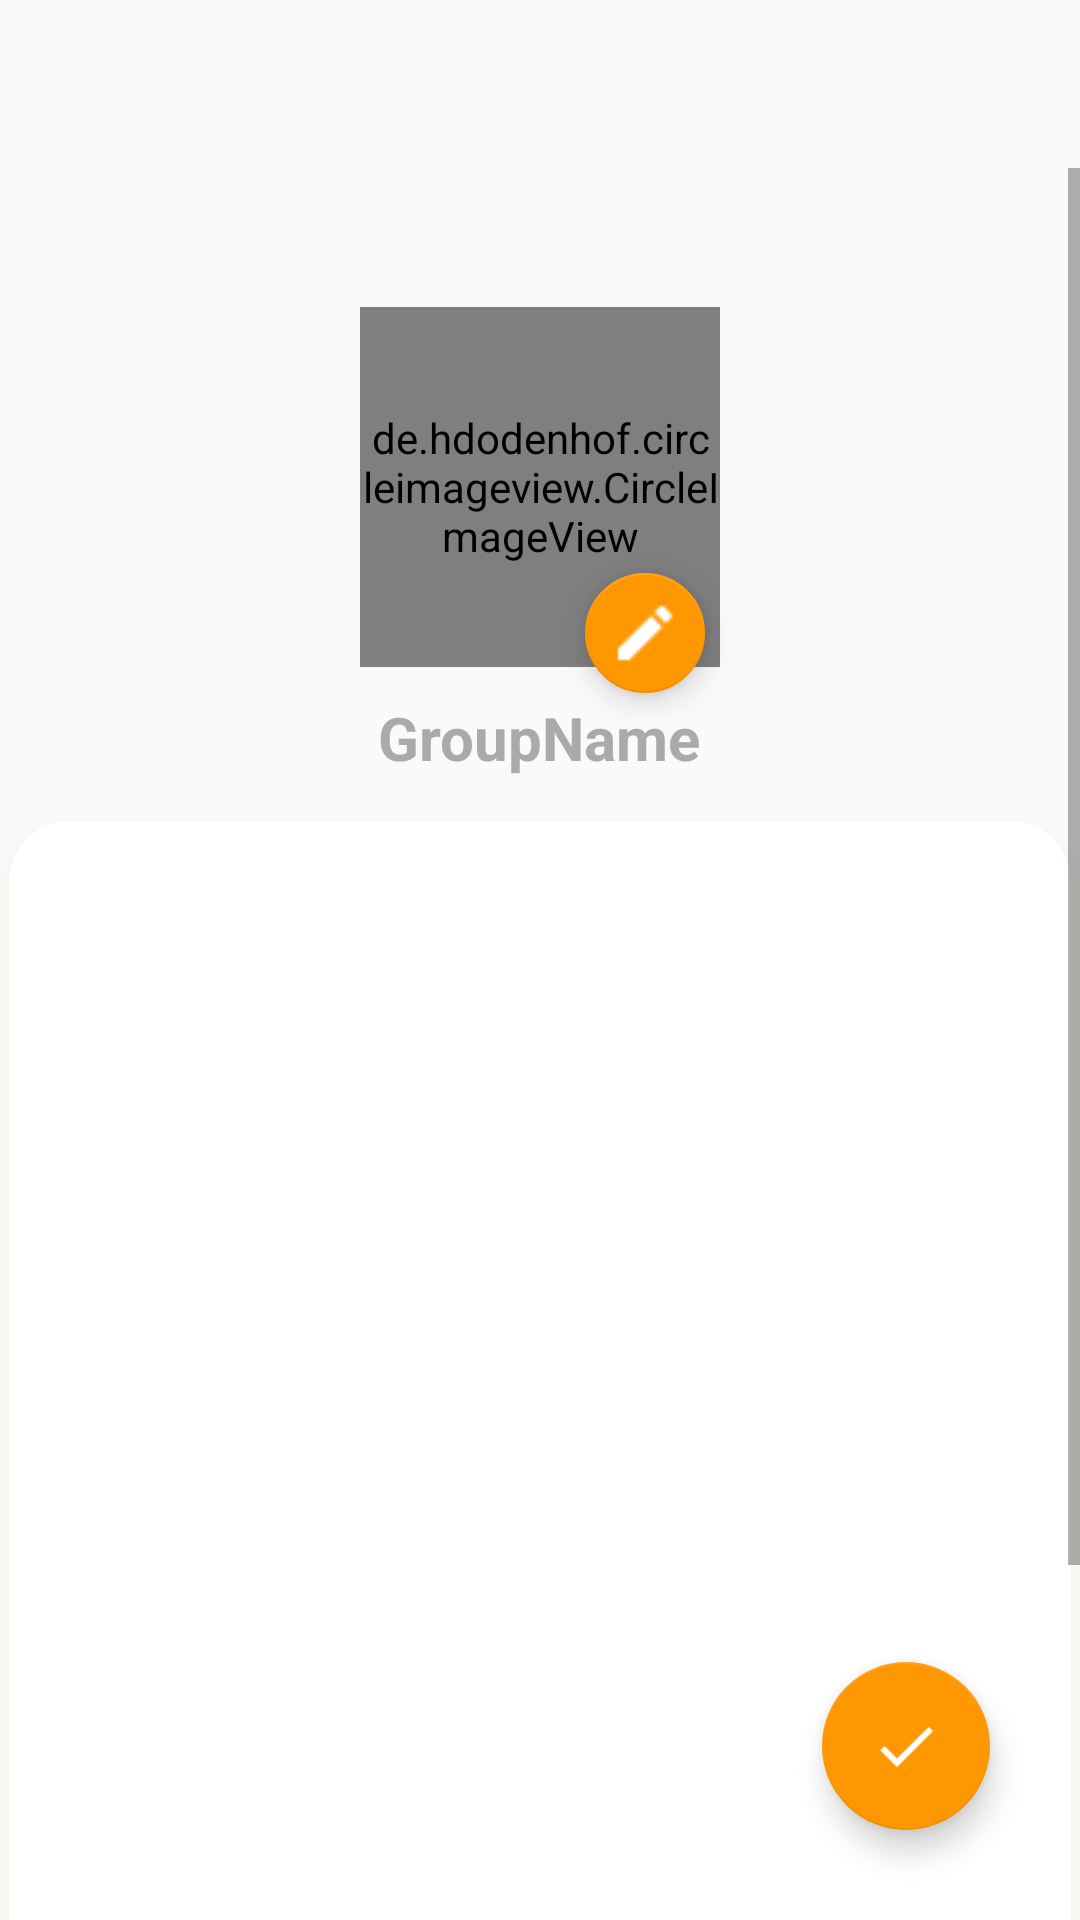

Locate icon controls on the screen. Image size 1080x1920, boxes as (x1=x1, y1=y1, x2=x2, y2=y2).
check: (x1=822, y1=1662, x2=990, y2=1830)
edit: (x1=585, y1=573, x2=705, y2=693)
